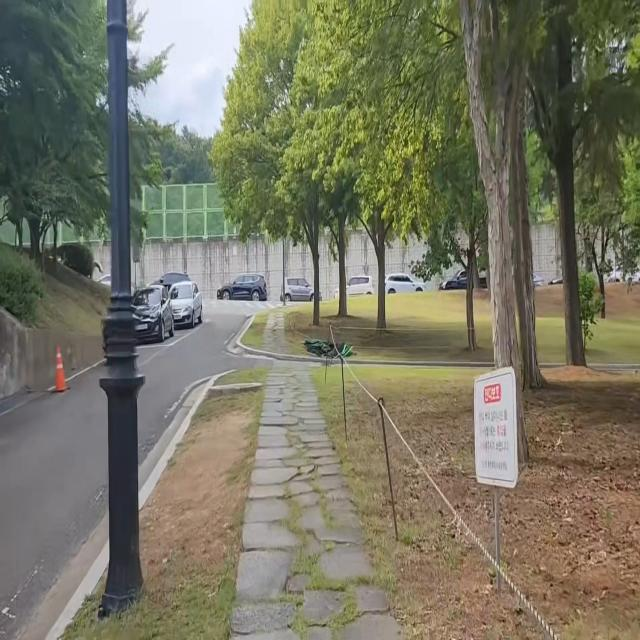obstacle: (95, 0, 153, 609), (125, 274, 208, 353), (51, 338, 70, 397)
road: (0, 313, 251, 640)
